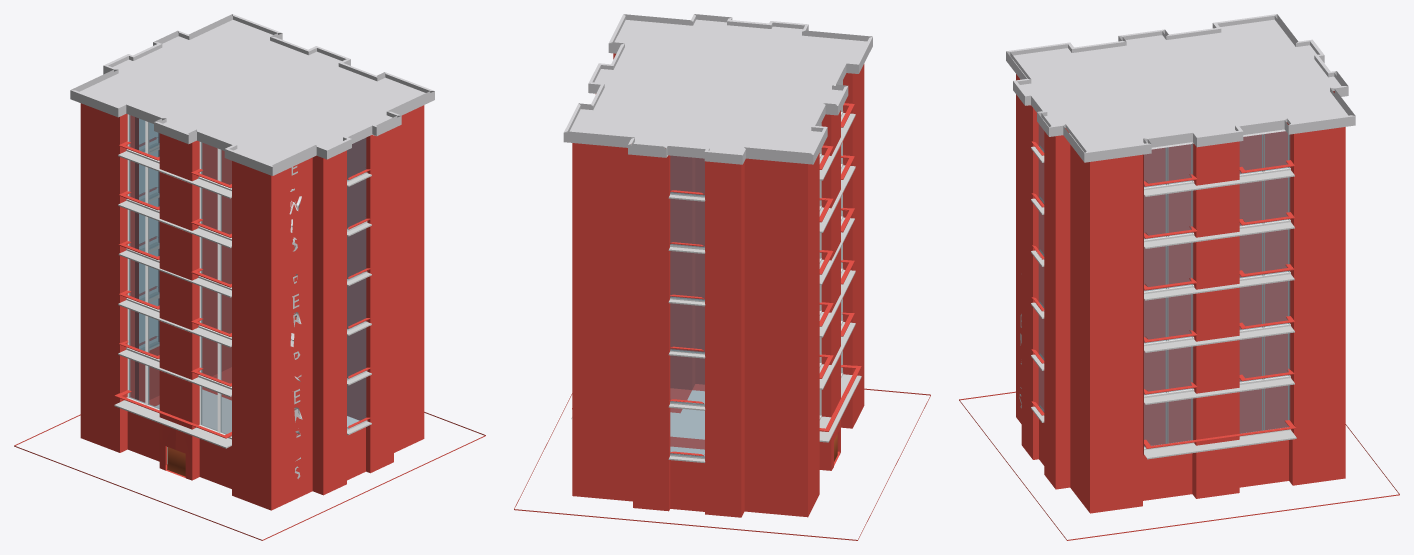
File: PERIPHERALSRED.glb
3 renders of one model, left to right at view 1: azimuth 30°, elevation 25°; view 2: azimuth 150°, elevation 25°; view 3: azimuth 270°, elevation 25°, orthographic. The views are drawn at different scales.
Parts seen in each view (by area): view 1: PERIPHERALS; view 2: PERIPHERALS; view 3: PERIPHERALS.
Boxes of the visible parts, bbox=[...] form: PERIPHERALS: bbox=[14, 14, 485, 540]; PERIPHERALS: bbox=[514, 14, 930, 540]; PERIPHERALS: bbox=[959, 14, 1399, 540].
Bounding box in the file's own units: 273 × 250 × 273.
Materials: 2 (2 with a texture image).
